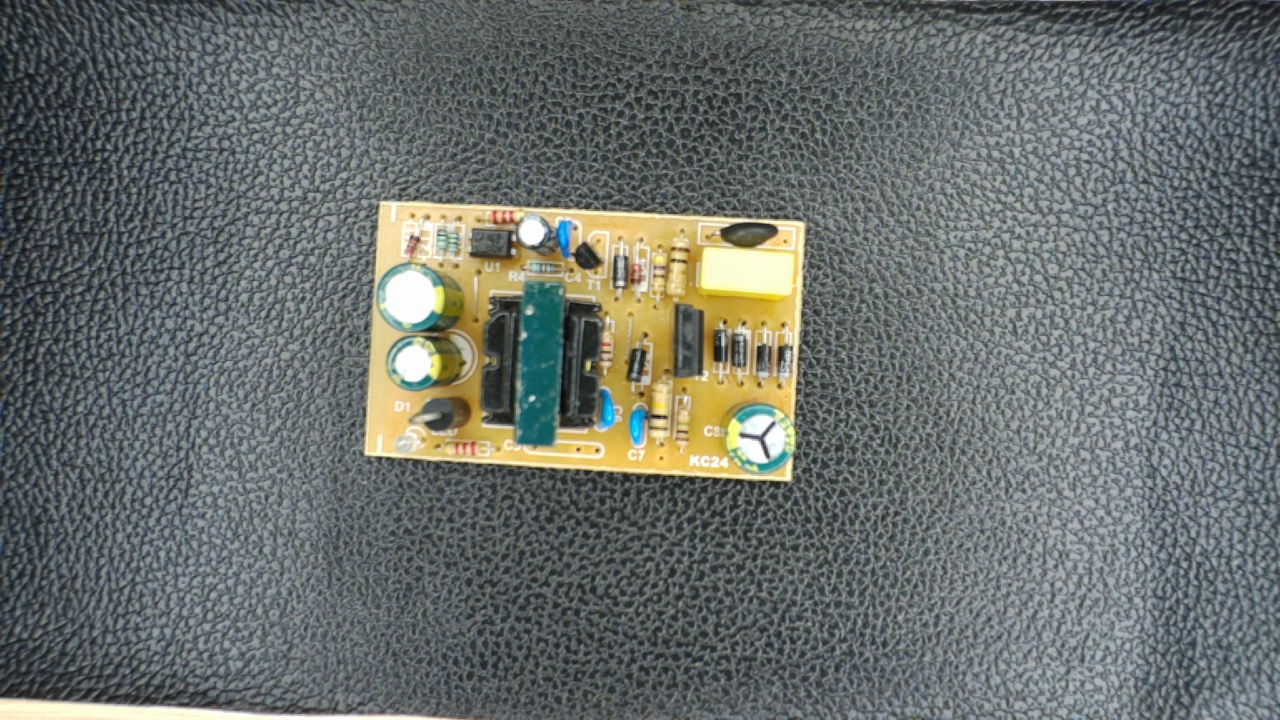fuse: (698, 216, 792, 251)
hv_capacitor: (717, 401, 797, 479)
optocoupler: (462, 224, 525, 266)
